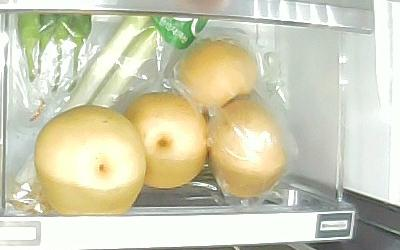pear: (35, 103, 146, 215), (124, 92, 206, 188)
pear_vinyl: (207, 99, 287, 197), (180, 41, 257, 112)
